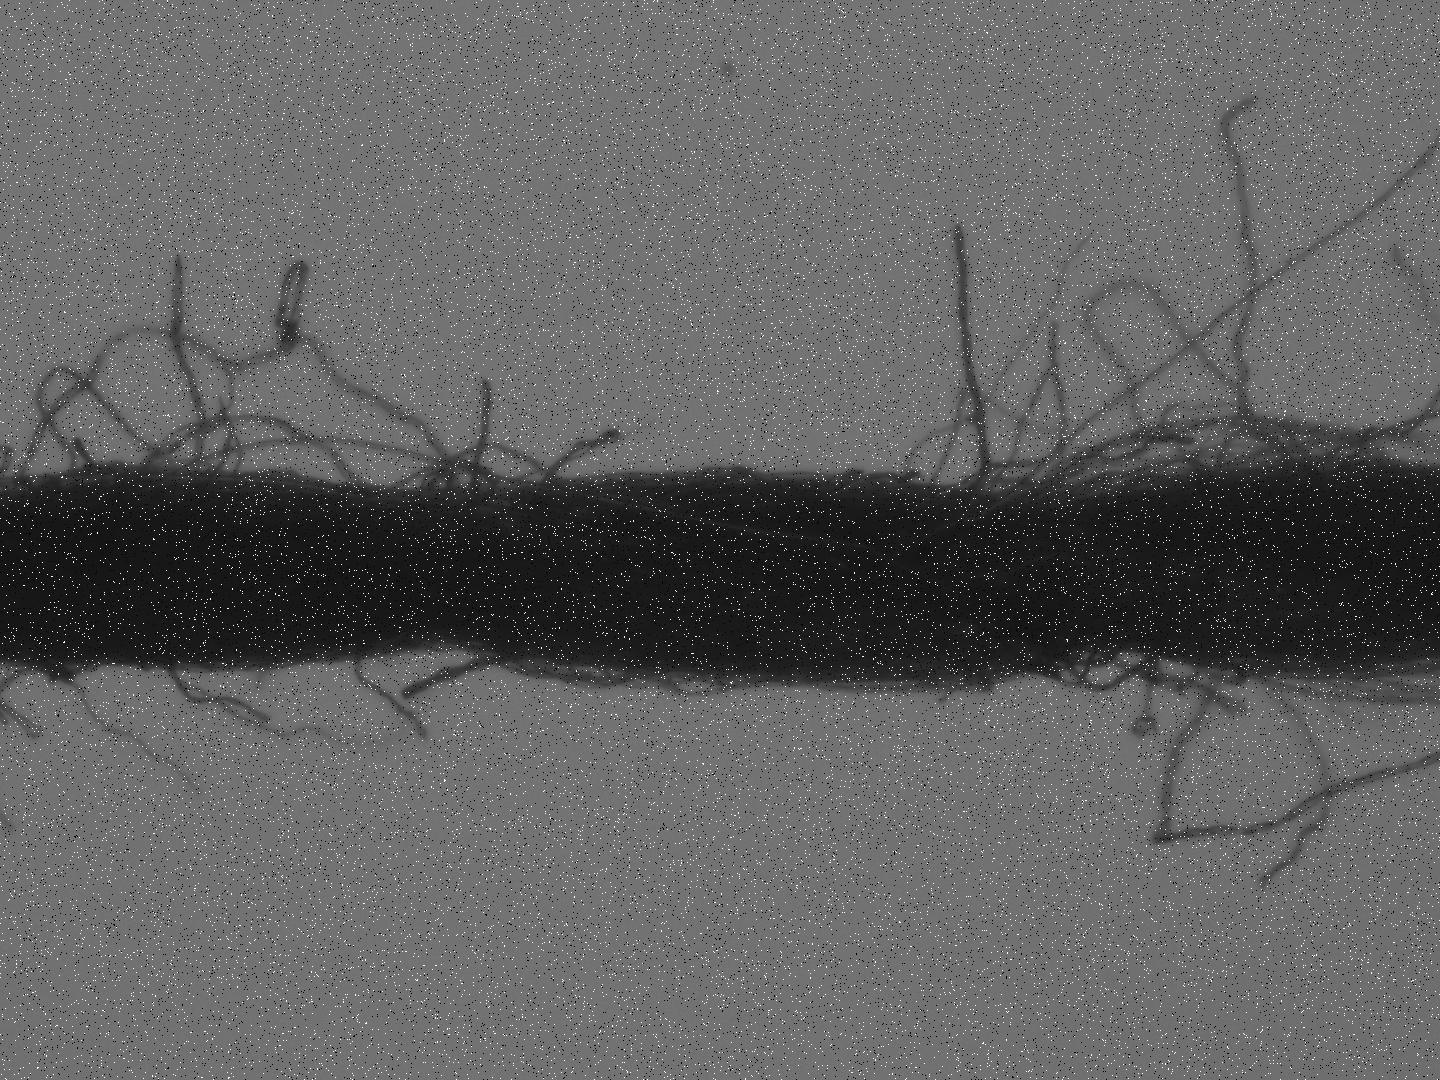loop_fiber: (15, 326, 236, 479), (1033, 415, 1386, 505), (177, 431, 553, 504), (133, 414, 364, 489), (32, 363, 171, 478), (392, 439, 566, 505), (471, 643, 663, 685), (1212, 425, 1289, 482), (650, 667, 790, 698), (413, 458, 493, 508), (1104, 644, 1200, 686), (1078, 655, 1152, 693), (1308, 446, 1379, 481), (1031, 655, 1090, 686), (1057, 647, 1116, 669), (1205, 666, 1245, 686)
protruding_fiber: (947, 214, 994, 507), (350, 651, 432, 741), (166, 663, 276, 727)
